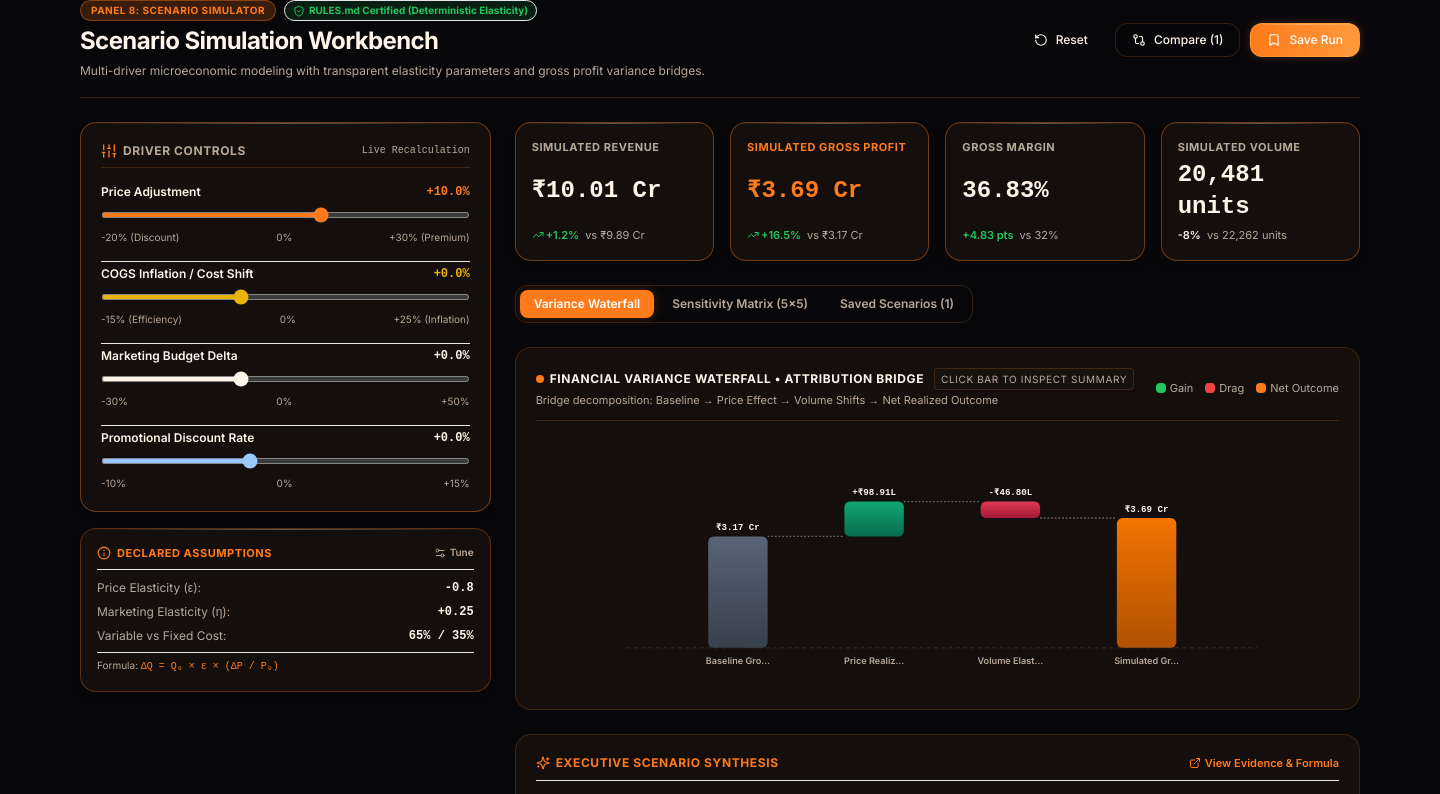
Scenario: What-If Scenario Simulation Workspace (Phase 11) › switches to Saved Scenarios tab and displays saved runs
The width and height of the screenshot is (1440, 794).
Step 1. Click the button "Saved Scenarios (1)" → click(897, 304), box 826,290 -> 968,318
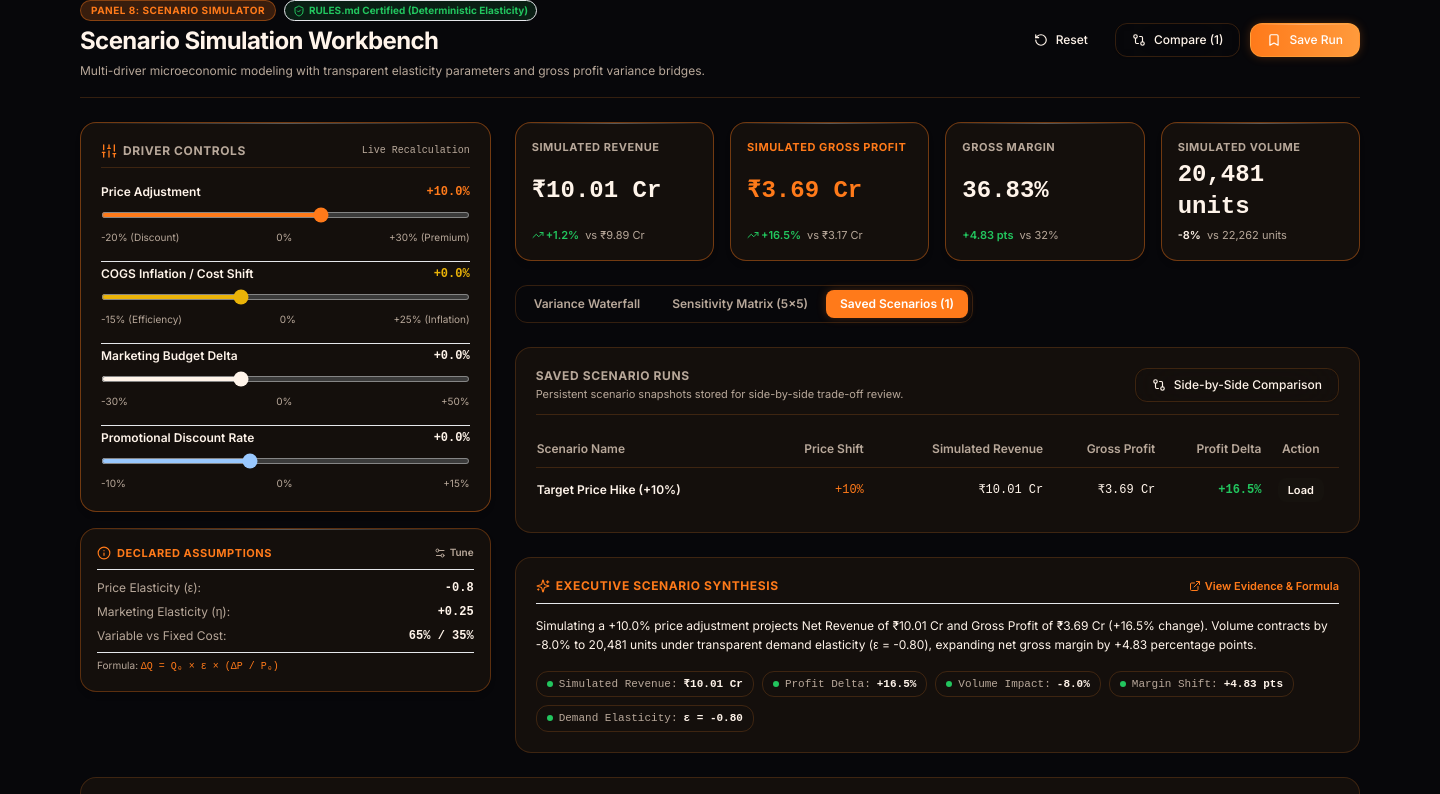
Result: the text "Target Price Hike (+10%)" is shown at 536,468 -> 767,512
